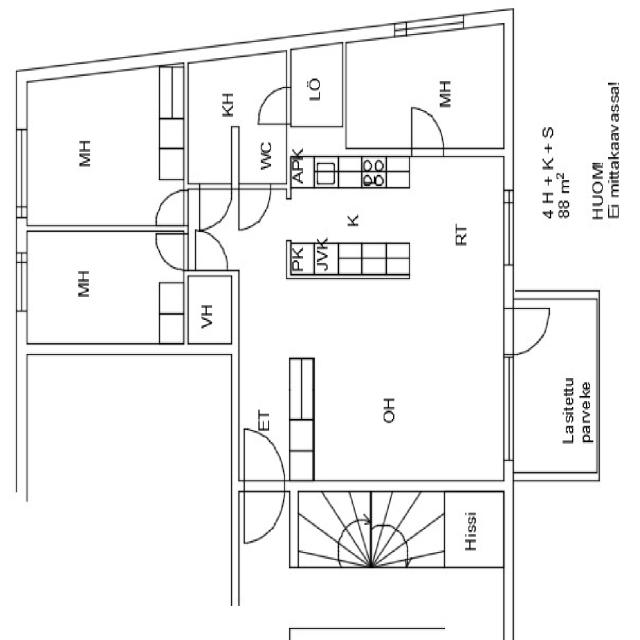door: (240, 416, 288, 478), (239, 486, 287, 547), (511, 304, 551, 355), (407, 103, 446, 154), (236, 182, 273, 233), (192, 226, 231, 272), (198, 184, 234, 232), (254, 82, 292, 127), (151, 186, 189, 229), (153, 229, 189, 272)
window: (11, 126, 33, 216), (398, 14, 466, 40), (13, 250, 32, 318), (391, 18, 410, 41)
zone: (237, 284, 503, 481), (284, 154, 511, 283), (19, 71, 182, 230), (342, 28, 508, 152), (21, 230, 187, 348), (188, 59, 238, 188), (290, 44, 344, 131), (185, 274, 238, 344), (237, 121, 288, 186), (323, 243, 411, 278)
